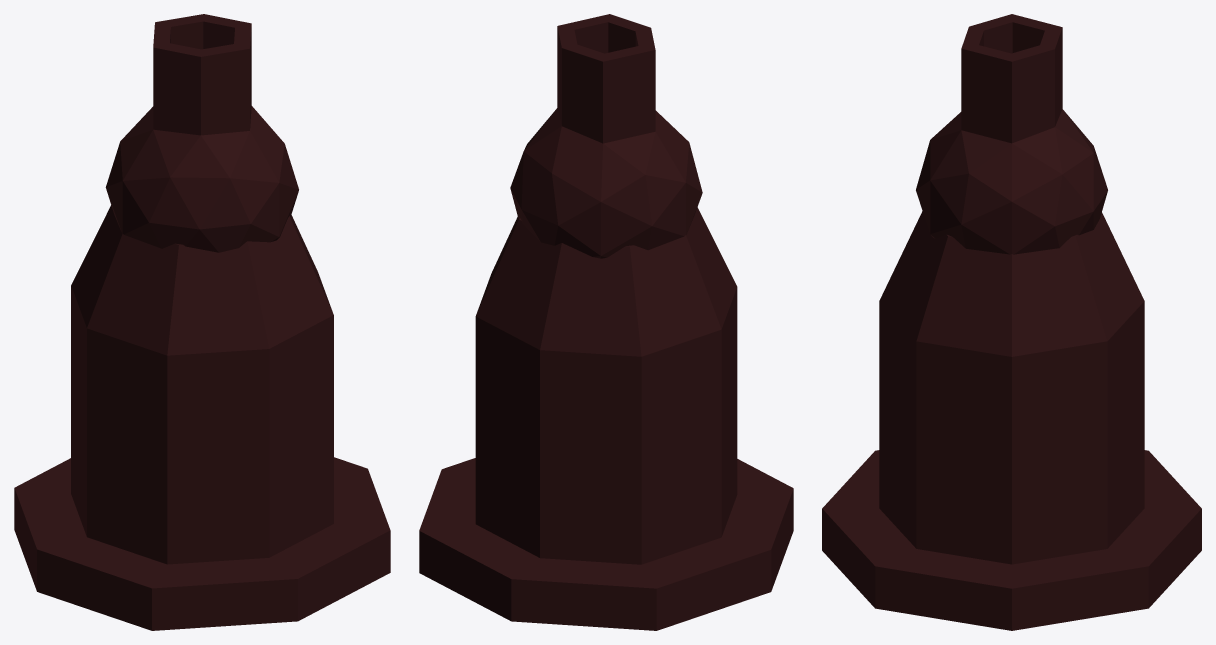
File: canastrao.fbx
3 views of the same model, side by side, from view 1: azimuth 30°, elevation 25°; view 2: azimuth 150°, elevation 25°; view 3: azimuth 270°, elevation 25° (orthographic).
Visible parts, largest first — view 1: Canhao base, Canao topo; view 2: Canhao base, Canao topo; view 3: Canhao base, Canao topo.
Part boxes in pixels (<box>): Canhao base: <box>14,205,390,630</box>; Canao topo: <box>105,14,298,252</box>; Canhao base: <box>419,207,793,630</box>; Canao topo: <box>510,14,702,258</box>; Canhao base: <box>822,211,1201,630</box>; Canao topo: <box>916,14,1107,254</box>.
Bounding box in the file's own units: 278 × 428 × 278.
